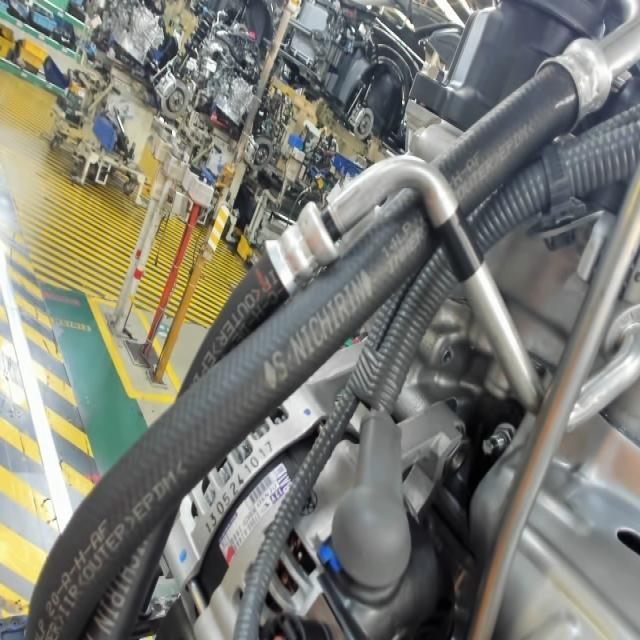Alternator-BA1: (268, 462, 296, 498)
Hose Discharge-HT: (428, 204, 490, 284)
